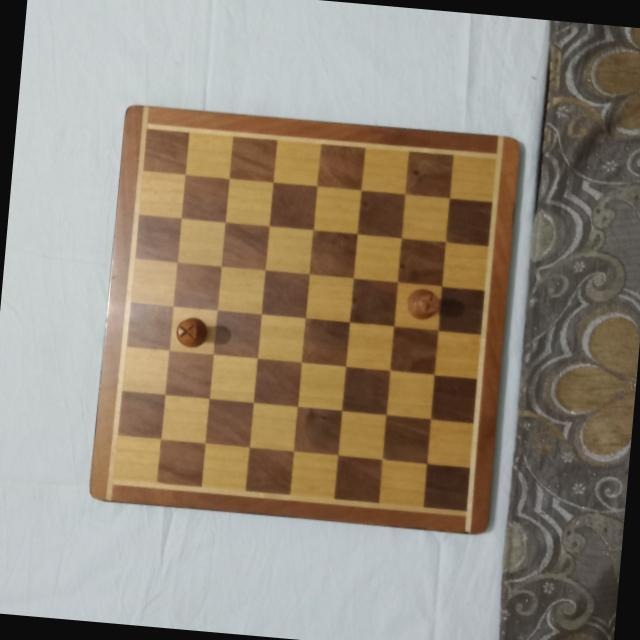white-rook: (402, 286, 442, 322), (172, 314, 211, 350)
